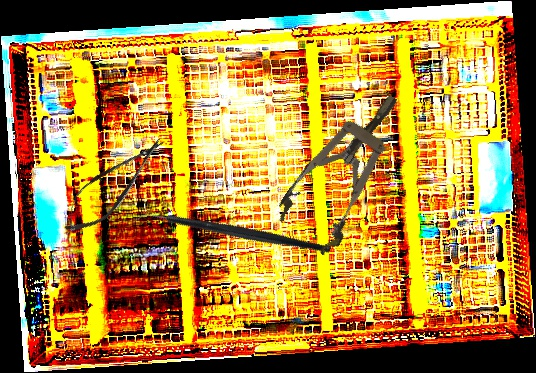Chopper: (130, 151, 332, 318)
Micro Scissor: (52, 125, 175, 244)
Speculum: (269, 77, 425, 260)
